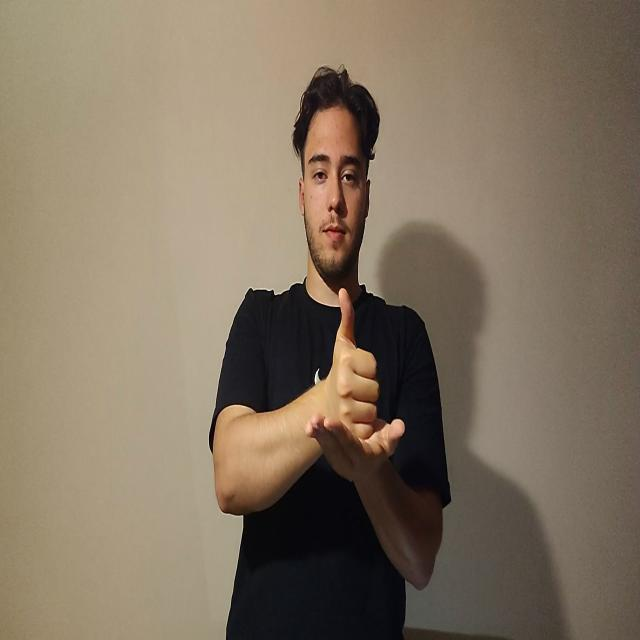help: (305, 289, 406, 476)
